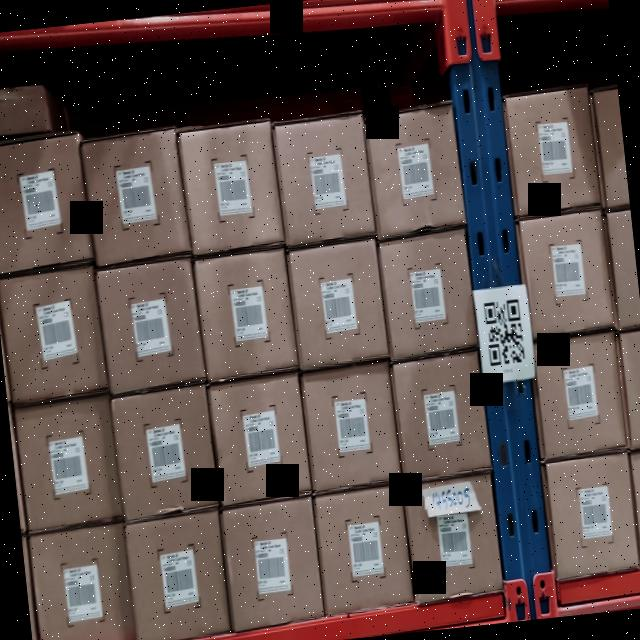box: (84, 129, 188, 266), (112, 384, 218, 518), (218, 496, 324, 628), (94, 260, 204, 386), (16, 396, 121, 528), (274, 113, 376, 247), (178, 121, 284, 249), (195, 248, 298, 379), (207, 378, 313, 504), (300, 360, 400, 492), (284, 242, 388, 366), (0, 273, 105, 395), (368, 106, 466, 236), (125, 517, 230, 638), (393, 354, 492, 481), (502, 88, 602, 213), (0, 136, 91, 271), (520, 208, 614, 338), (404, 478, 504, 600), (314, 488, 414, 609), (378, 235, 478, 355), (29, 528, 134, 640), (544, 456, 640, 576), (534, 337, 626, 456)
